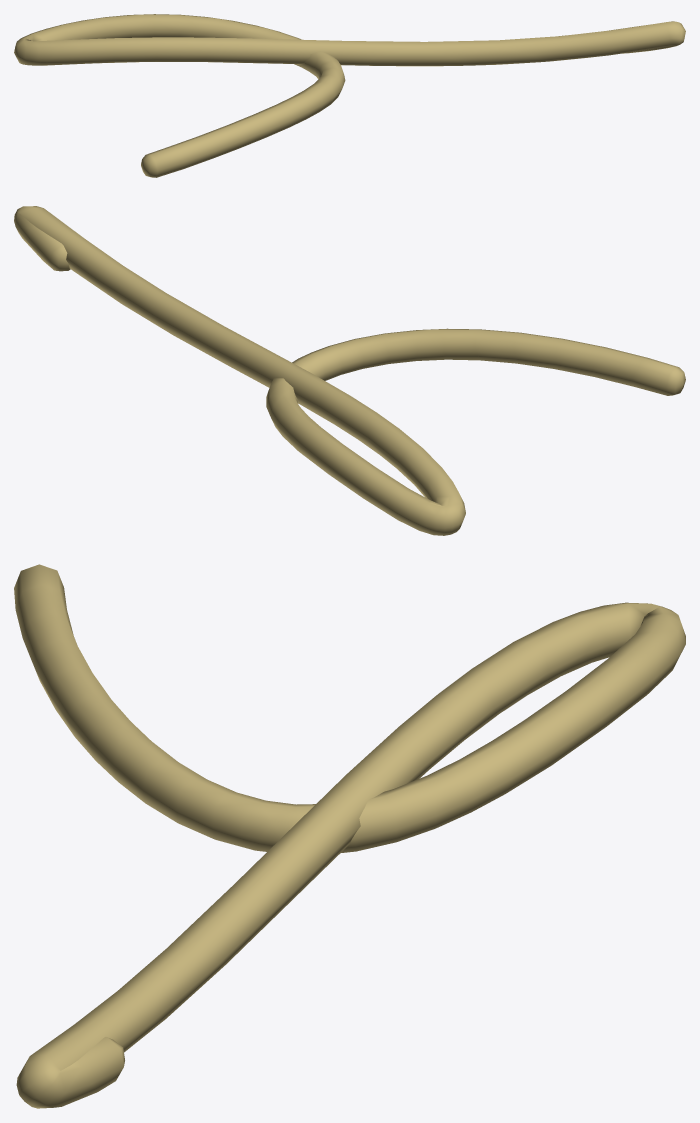
File: tinsel_floor.glb
3 views of the same model, one above another, from view 1: azimuth 30°, elevation 25°; view 2: azimuth 150°, elevation 25°; view 3: azimuth 270°, elevation 25° (orthographic). The views are drawn at different scales.
Visible parts, largest first — view 1: tinsel_floor; view 2: tinsel_floor; view 3: tinsel_floor.
Part boxes in pixels (x1,y1,x2,y2): tinsel_floor: [14, 14, 685, 177]; tinsel_floor: [14, 206, 685, 535]; tinsel_floor: [14, 564, 685, 1108].
Size of the model in its own units: 0.7917 by 0.0489 by 0.4312.
